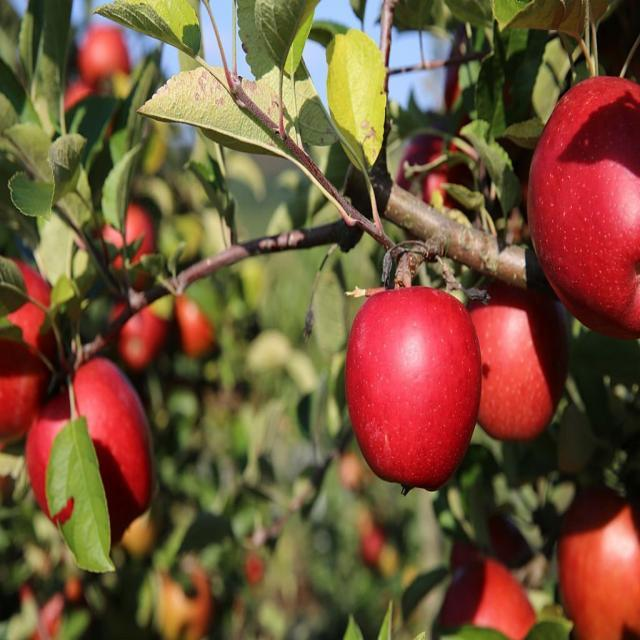Red Apple: (531, 73, 640, 322), (30, 356, 161, 541), (352, 289, 476, 483), (469, 271, 570, 444), (558, 491, 640, 640), (2, 252, 57, 443), (442, 560, 538, 640), (115, 294, 166, 364), (104, 205, 150, 270), (83, 29, 124, 87)
